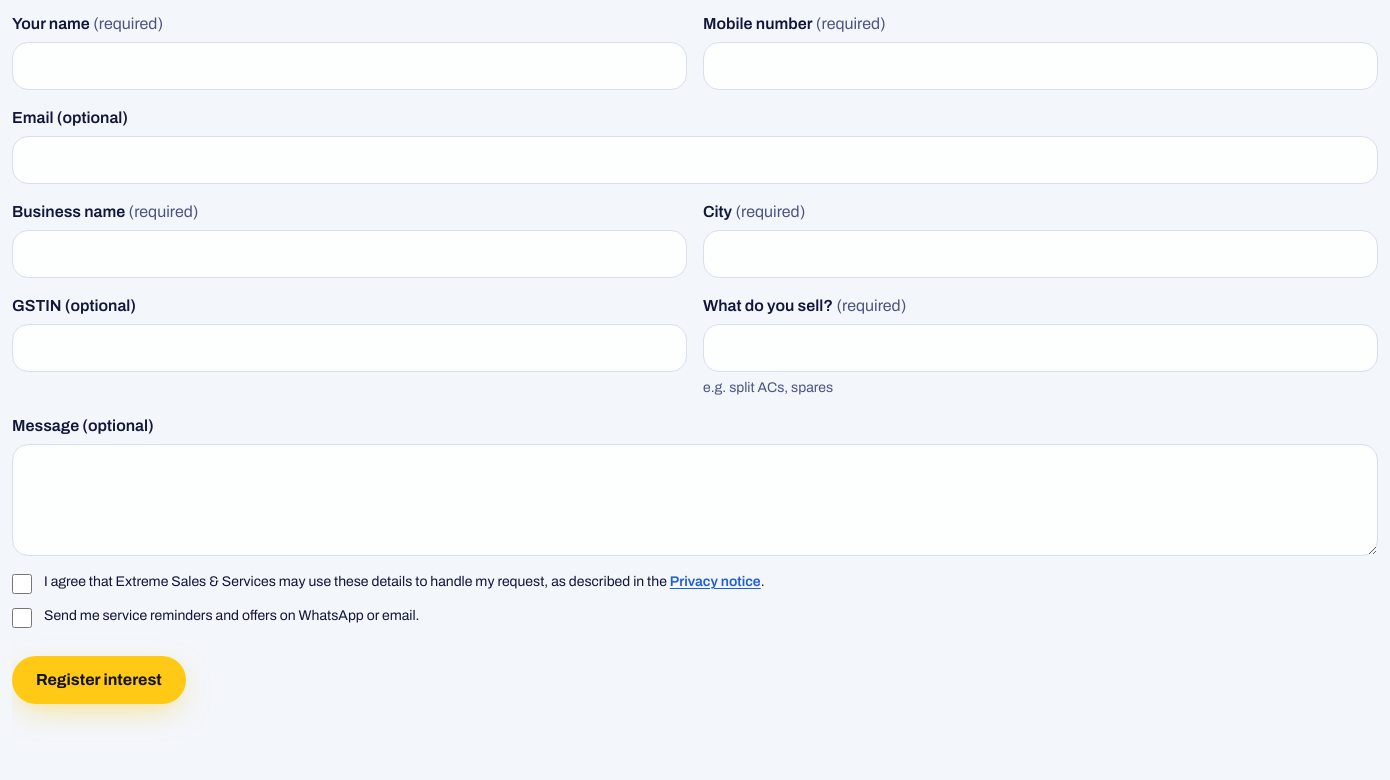
Test: SellerForm › catches a GSTIN that is too short without sending
Type "Ravi Shah" into the field labelled "Your name (required)" at (350,66), box [12,42,687,90]
Type "9876543210" into the field labelled "Mobile number (required)" at (1040,66), box [703,42,1378,90]
Type "Cool Traders" into the field labelled "Business name (required)" at (350,254), box [12,230,687,278]
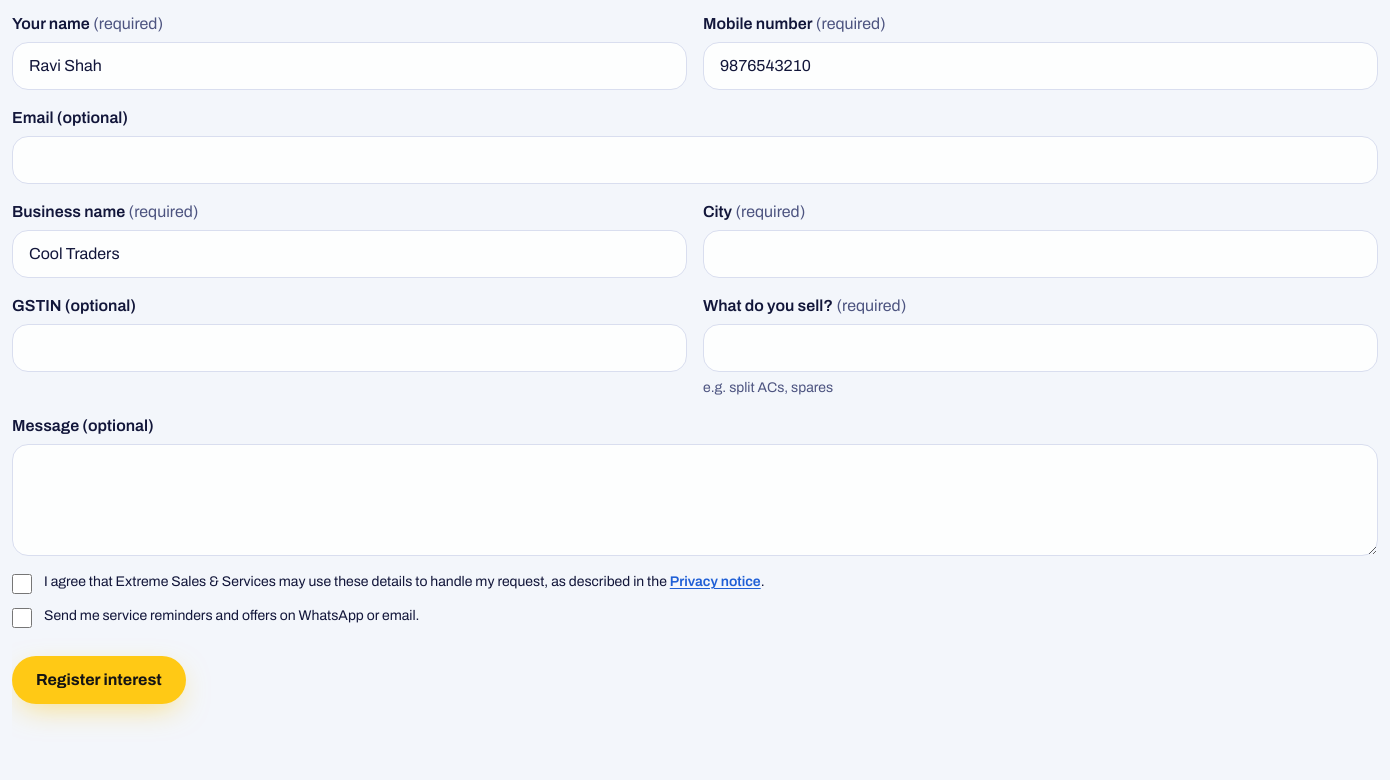
Type "Thane" into the field labelled "City (required)" at (1040,254), box [703,230,1378,278]
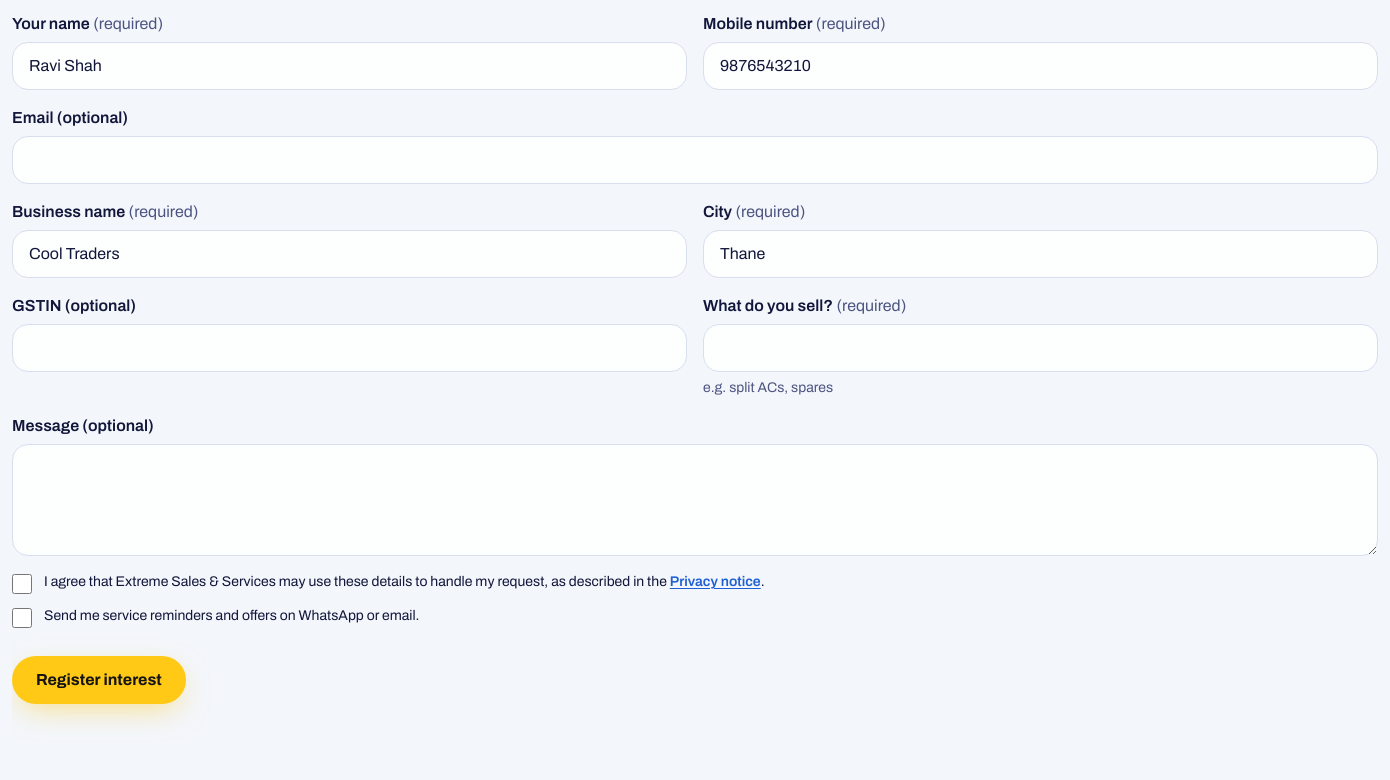
Type "27ABCDE1234F1Z" into the field labelled "GSTIN (optional)" at (350,348), box [12,324,687,372]
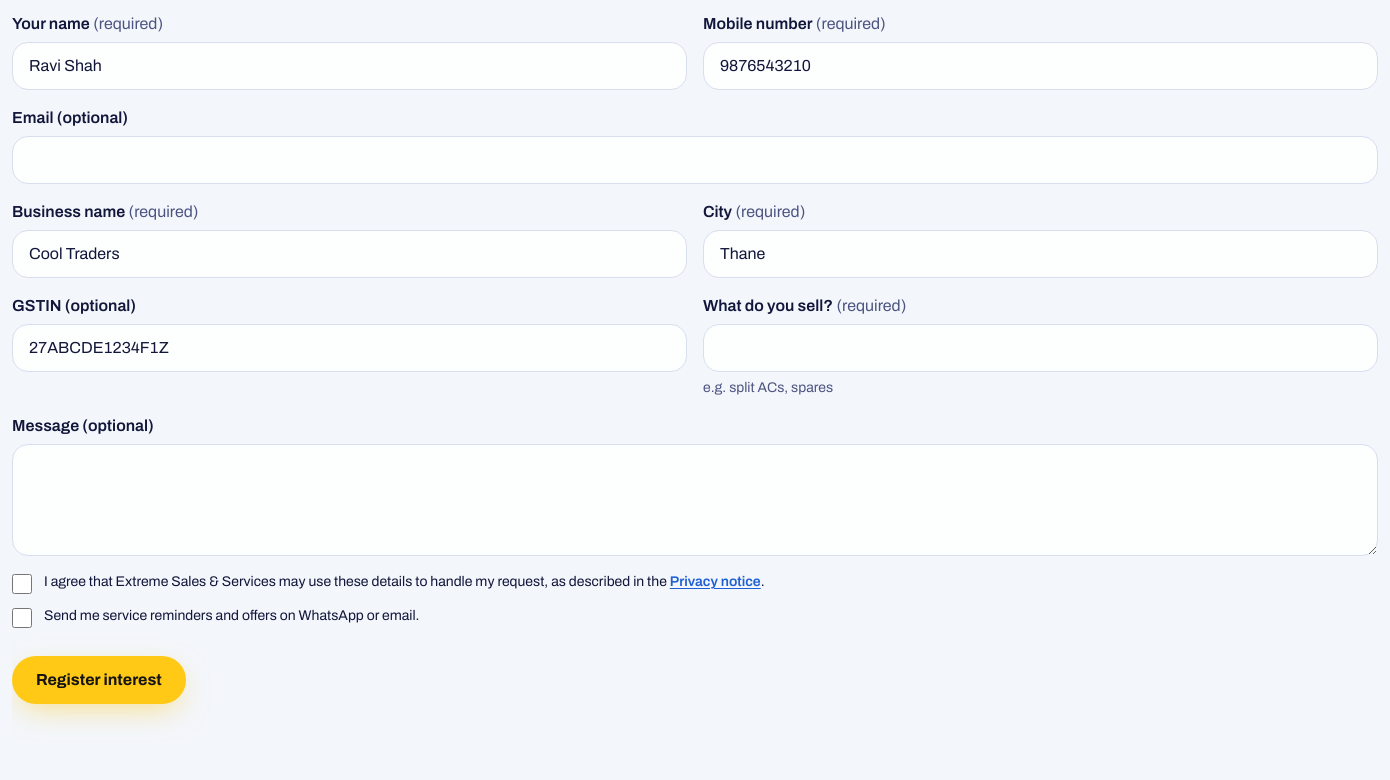
Type "Split ACs and spares" into the field labelled "What do you sell? (required)" at (1040,348), box [703,324,1378,372]
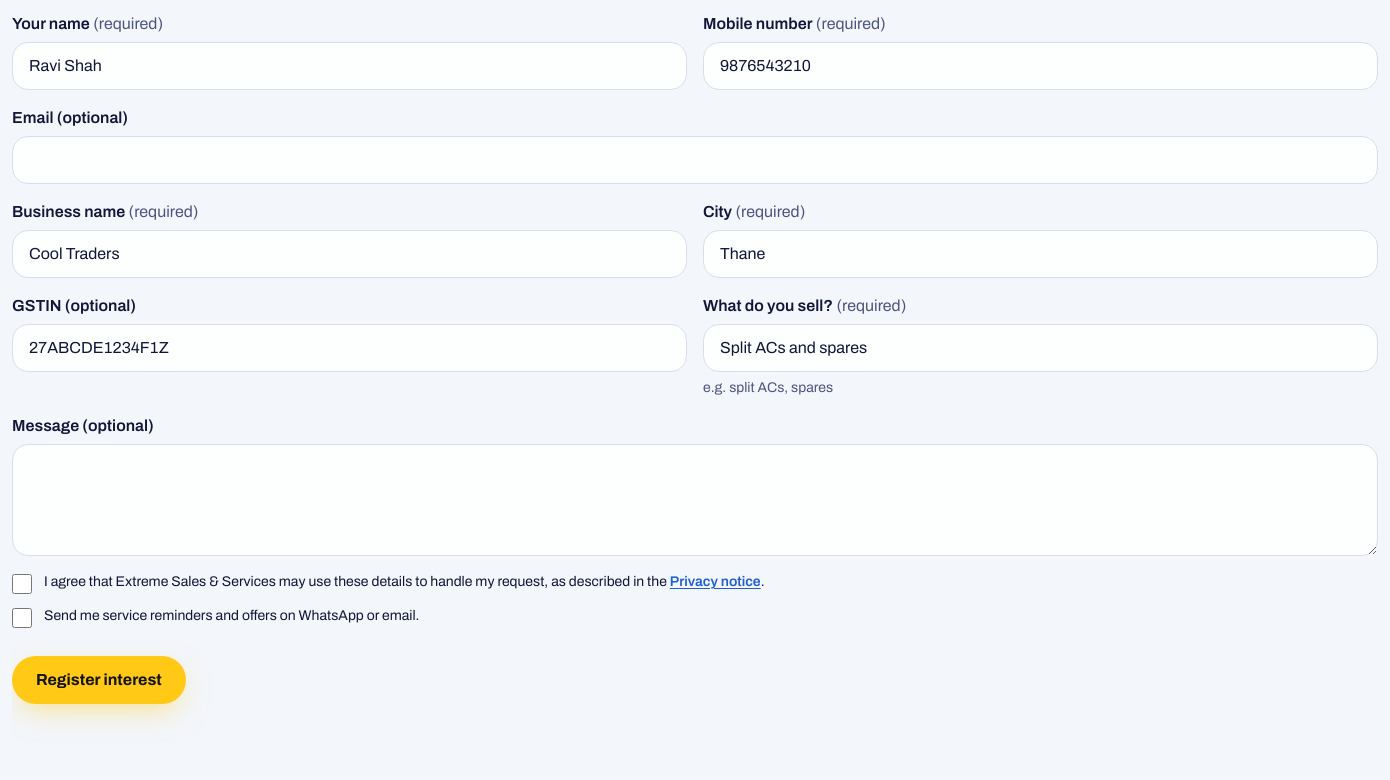
Click the checkbox labelled "I agree that" at (22,584), box [12,574,32,594]
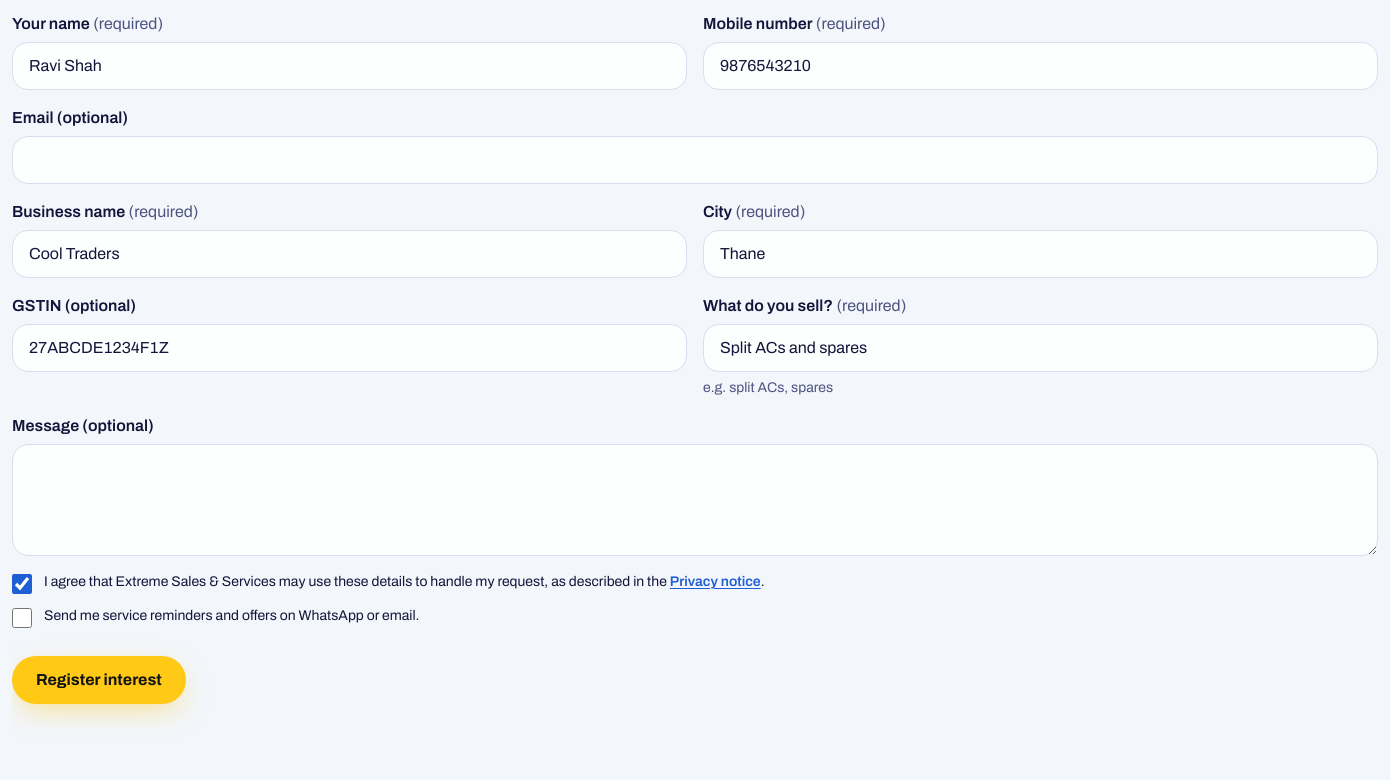
Click the button "Register interest" at (99,680), box [12,656,186,704]
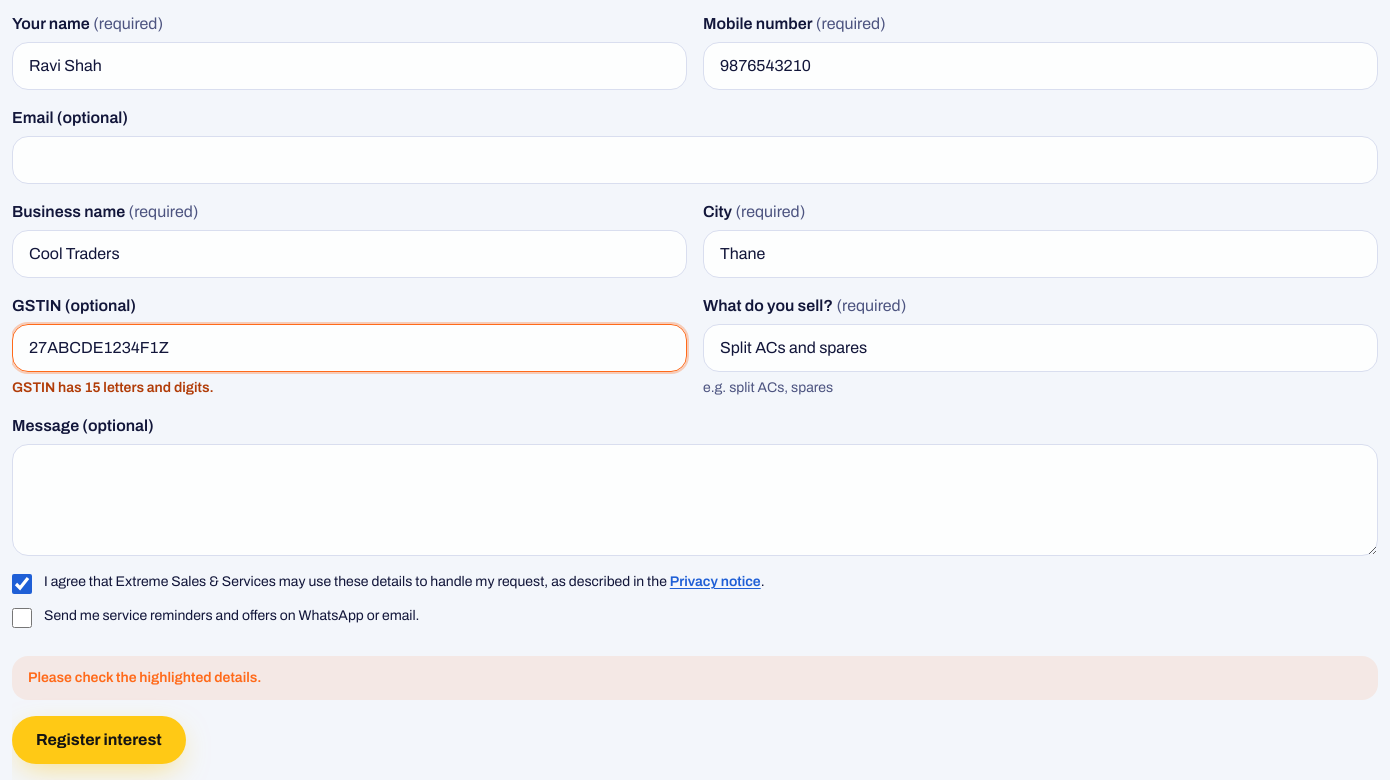
Result: the text "GSTIN has 15 letters and digits." is shown at [12,380,214,395]
